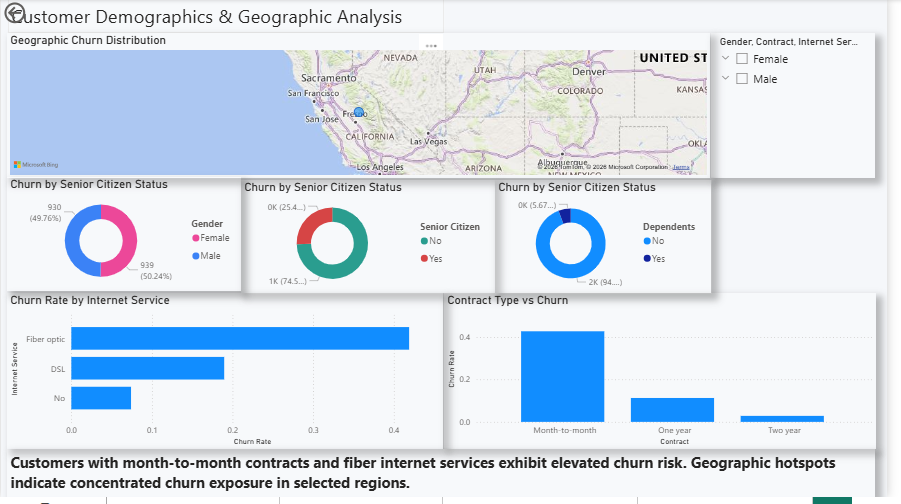

The page's visual inventory and layout, read from the dashboard file:
{"tool":"powerbi","page":{"name":"Demographics & Geography","canvas":[1280,720],"ordinal":2},"visuals":[{"type":"textbox","box":[9.5,0,631.3,49.2],"z":0},{"type":"map","title":"Geographic Churn Distribution","fields":{"Category":["churn_predictions.State"],"Size":["churn_predictions.Churned Customers"]},"box":[9.4,48.5,1017.1,209.7],"z":1000},{"type":"actionButton","box":[0,0,100,40],"z":2000},{"type":"donutChart","title":"Churn by Senior Citizen Status","fields":{"Category":["churn_predictions.Senior Citizen"],"Y":["churn_predictions.Churned Customers"]},"box":[346.5,261,367.2,163.7],"z":3000},{"type":"barChart","fields":{"Y":["churn_predictions.Churn Rate"],"Category":["churn_predictions.Internet Service"]},"box":[9.4,425.6,630.6,225.3],"z":4000},{"type":"clusteredColumnChart","title":"Contract Type vs Churn","fields":{"Category":["churn_predictions.Contract"],"Y":["churn_predictions.Churn Rate"]},"box":[640,425.6,624.4,225.3],"z":5000},{"type":"slicer","fields":{"Values":["churn_predictions.Gender","churn_predictions.Contract","churn_predictions.Internet Service"]},"box":[1026.4,48.7,237.4,209.4],"z":6000},{"type":"donutChart","title":"Churn by Senior Citizen Status","fields":{"Y":["churn_predictions.Churned Customers"],"Category":["churn_predictions.Gender"]},"box":[8.8,258.1,337.7,165.2],"z":7000},{"type":"donutChart","title":"Churn by Senior Citizen Status","fields":{"Y":["churn_predictions.Churned Customers"],"Category":["churn_predictions.Dependents"]},"box":[713.5,261.3,313,164.3],"z":8000},{"type":"textbox","box":[9.4,651,1255,68.9],"z":9000}]}

Visuals, with their boxes in screenshot pixels (x1, y1, x2, y2), scaled from the page's 1280x720 canvas onto the 901x504 screenshot:
textbox: detection(7, 0, 451, 34)
"Geographic Churn Distribution" map: detection(7, 34, 723, 181)
actionButton: detection(0, 0, 70, 28)
"Churn by Senior Citizen Status" donutChart: detection(244, 183, 502, 297)
barChart - churn_predictions.Churn Rate x churn_predictions.Internet Service: detection(7, 298, 450, 456)
"Contract Type vs Churn" clusteredColumnChart: detection(450, 298, 890, 456)
slicer - churn_predictions.Gender x churn_predictions.Contract: detection(722, 34, 890, 181)
"Churn by Senior Citizen Status" donutChart: detection(6, 181, 244, 296)
"Churn by Senior Citizen Status" donutChart: detection(502, 183, 723, 298)
textbox: detection(7, 456, 890, 503)
